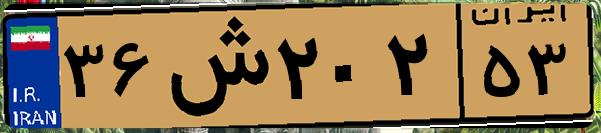0: (330, 28, 385, 110)
2: (270, 28, 330, 110), (385, 28, 445, 110)
3: (57, 26, 110, 100), (525, 38, 570, 115)
5: (475, 38, 525, 113)
6: (110, 28, 158, 98)
ش: (158, 12, 270, 120)
